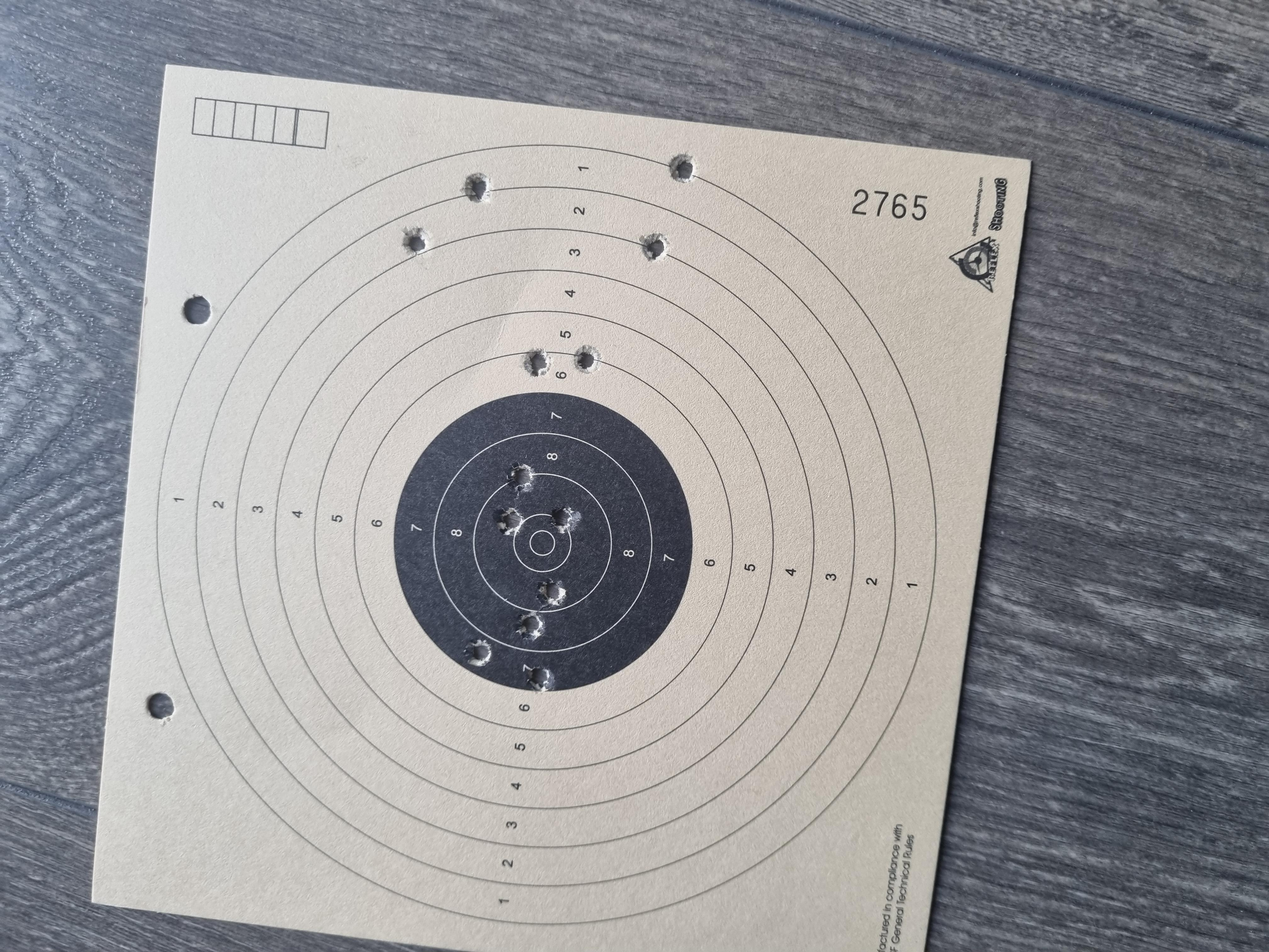hole: (991, 343, 1045, 373), (371, 343, 419, 373), (340, 391, 387, 420), (916, 478, 963, 506), (923, 298, 970, 326), (455, 403, 502, 431), (611, 377, 655, 406), (555, 368, 603, 394), (1025, 497, 1066, 527), (767, 428, 810, 455), (555, 410, 600, 435), (413, 387, 456, 412), (767, 389, 805, 415)
